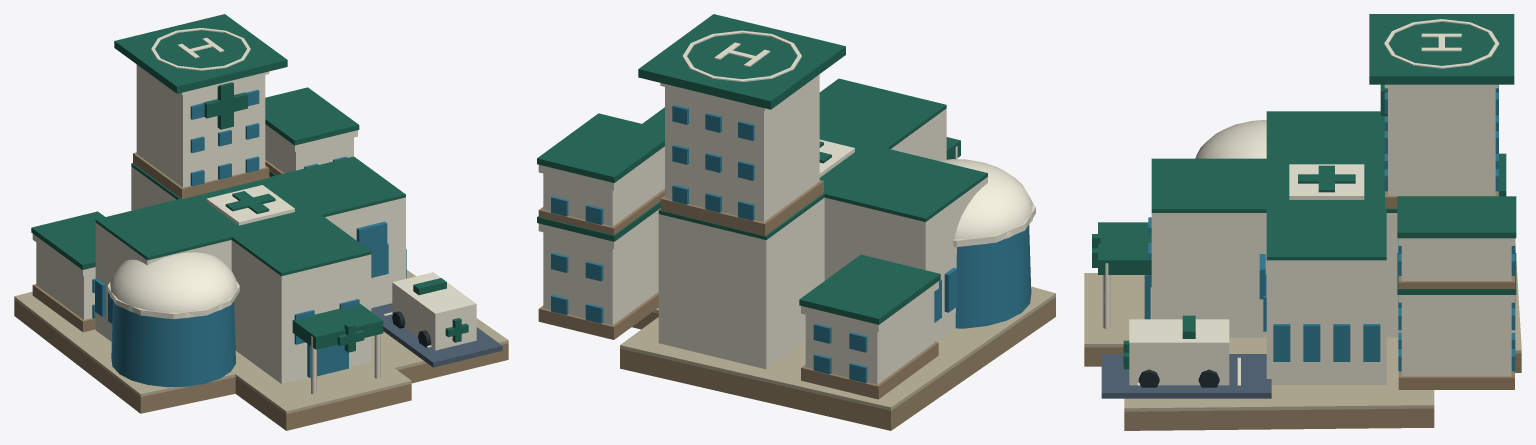
The model's file is medical-center-lv5.glb.
3 renders of one model, left to right at view 1: azimuth 30°, elevation 25°; view 2: azimuth 150°, elevation 25°; view 3: azimuth 270°, elevation 25°, orthographic. The views are drawn at different scales.
Parts seen in each view (by area): view 1: cross_clinic_white, cross_clinic_jade, medical_tower_white, foundation_paving, diagnostics_rotunda_glass, foundation_stoneDark, helipad_jade, diagnostics_dome_white, ambulance_white, inpatient_upper_floor_roof_jade, inpatient_wing_white, inpatient_upper_floor_white (+15 smaller); view 2: cross_clinic_white, medical_tower_white, cross_clinic_jade, helipad_jade, foundation_stoneDark, diagnostics_wing_white, foundation_paving, inpatient_wing_white, diagnostics_rotunda_glass, inpatient_wing_roof_jade, inpatient_upper_floor_roof_jade, inpatient_upper_floor_white (+13 smaller); view 3: cross_clinic_white, cross_clinic_jade, medical_tower_white, foundation_paving, helipad_jade, diagnostics_wing_white, foundation_stoneDark, ambulance_white, inpatient_upper_floor_roof_jade, inpatient_upper_floor_white, ambulance_lane_slate, entry_canopy_jade (+13 smaller).
Part boxes in pixels (bbox=[...]): cross_clinic_white: bbox=[95, 166, 405, 383]; cross_clinic_jade: bbox=[95, 156, 405, 276]; medical_tower_white: bbox=[136, 64, 269, 187]; foundation_paving: bbox=[14, 270, 508, 414]; diagnostics_rotunda_glass: bbox=[111, 300, 235, 387]; foundation_stoneDark: bbox=[14, 299, 508, 430]; helipad_jade: bbox=[114, 14, 287, 93]; diagnostics_dome_white: bbox=[107, 252, 239, 319]; ambulance_white: bbox=[392, 272, 476, 350]; inpatient_upper_floor_roof_jade: bbox=[265, 87, 359, 145]; inpatient_wing_white: bbox=[32, 234, 95, 319]; inpatient_upper_floor_white: bbox=[265, 124, 357, 173]; cross_clinic_white: bbox=[658, 108, 987, 369]; medical_tower_white: bbox=[660, 74, 819, 222]; cross_clinic_jade: bbox=[642, 78, 987, 239]; helipad_jade: bbox=[638, 14, 845, 109]; foundation_stoneDark: bbox=[620, 297, 1055, 430]; diagnostics_wing_white: bbox=[538, 208, 660, 325]; foundation_paving: bbox=[620, 286, 1055, 410]; inpatient_wing_white: bbox=[801, 281, 938, 384]; diagnostics_rotunda_glass: bbox=[955, 224, 1031, 328]; inpatient_wing_roof_jade: bbox=[799, 254, 940, 324]; inpatient_upper_floor_roof_jade: bbox=[537, 113, 664, 182]; inpatient_upper_floor_white: bbox=[538, 146, 664, 226]; cross_clinic_white: bbox=[1151, 213, 1401, 384]; cross_clinic_jade: bbox=[1151, 111, 1499, 260]; medical_tower_white: bbox=[1384, 84, 1498, 195]; foundation_paving: bbox=[1084, 244, 1521, 411]; helipad_jade: bbox=[1369, 14, 1514, 84]; diagnostics_wing_white: bbox=[1398, 295, 1514, 376]; foundation_stoneDark: bbox=[1084, 347, 1521, 430]; ambulance_white: bbox=[1129, 319, 1229, 385]; inpatient_upper_floor_roof_jade: bbox=[1397, 196, 1516, 238]; inpatient_upper_floor_white: bbox=[1398, 238, 1514, 280]; ambulance_lane_slate: bbox=[1101, 354, 1271, 398]; entry_canopy_jade: bbox=[1098, 222, 1151, 274].
Bounding box in the file's own units: 1 × 0.7302 × 0.9887.
